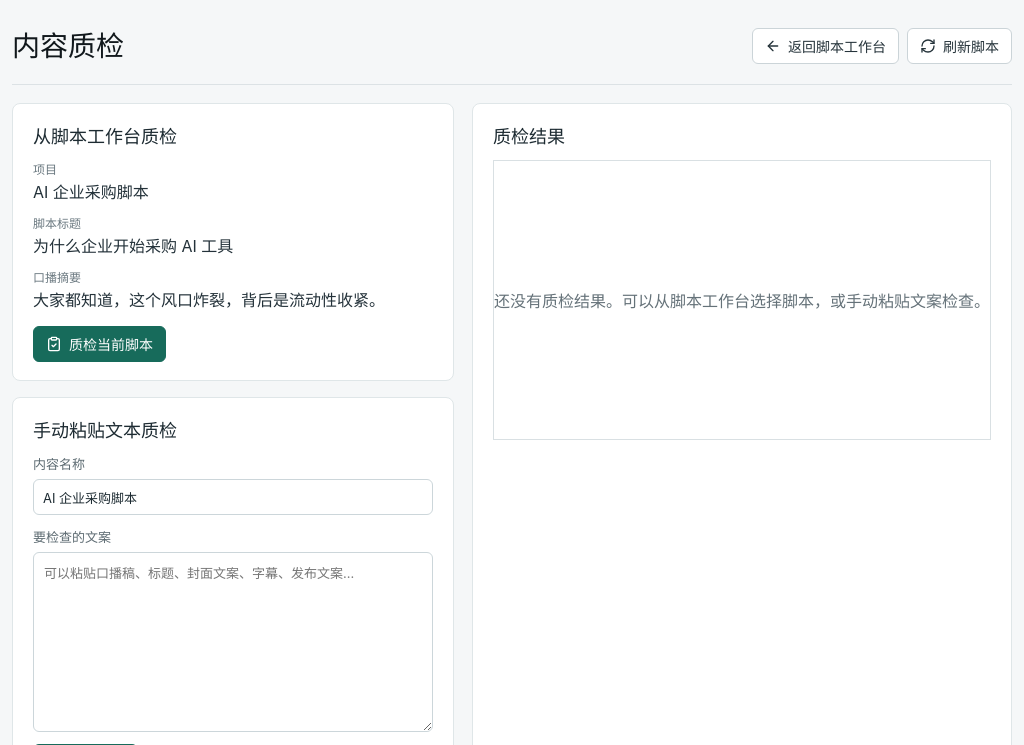
it: 内容质检页面 › 能从脚本工作台选择脚本质检并显示结果
This screenshot has width=1024, height=745.
Expected: the text "AI 企业采购脚本" is shown, [33,182,149,202]
Click the button "质检当前脚本".
click(100, 344)  # box [33,326,166,362]
(page scrolled)
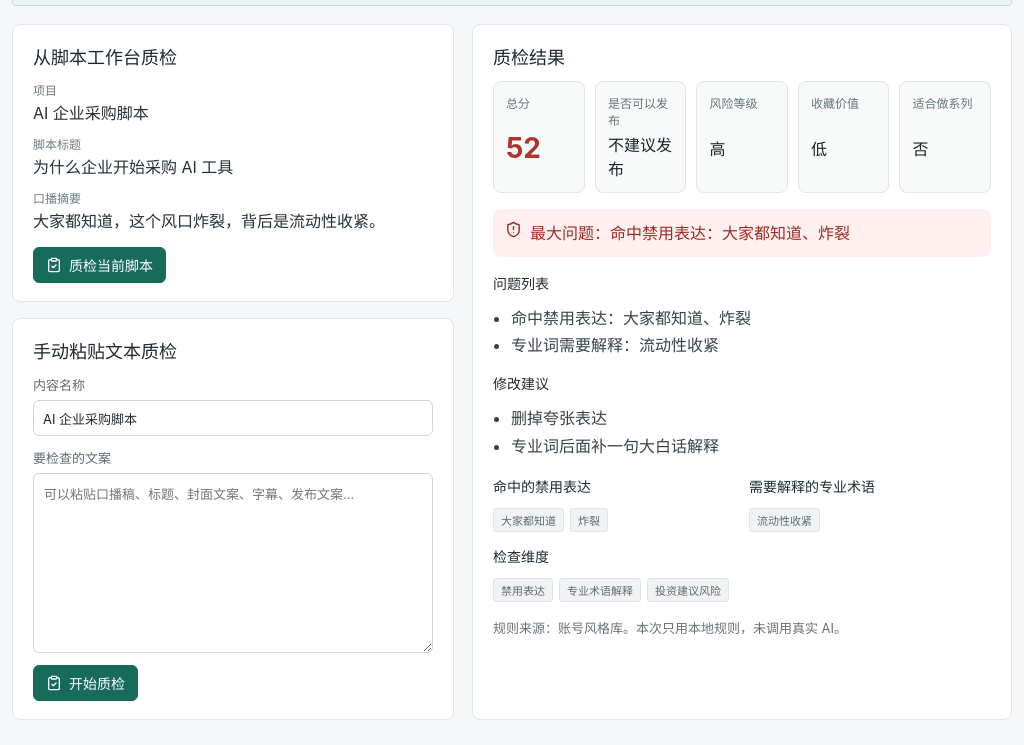
Expected: the text "不建议发布" is shown, [608,132,673,180]
Expected: the text "大家都知道" is shown, [493,508,564,532]
Expected: the text "流动性收紧" is shown, [749,508,820,532]
